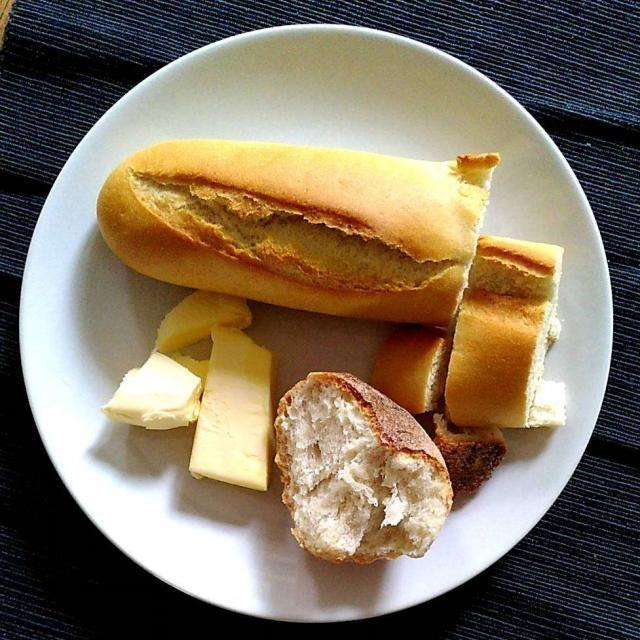bread: (104, 145, 557, 541)
butter: (109, 299, 273, 488)
